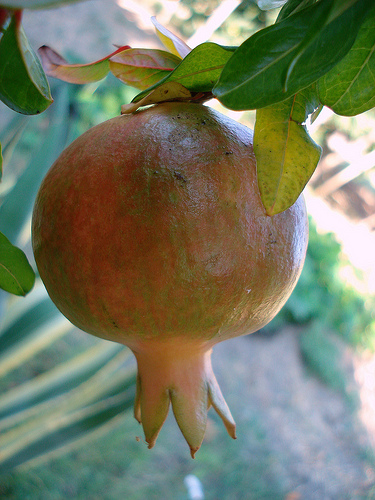pomogranate: (30, 101, 310, 456)
